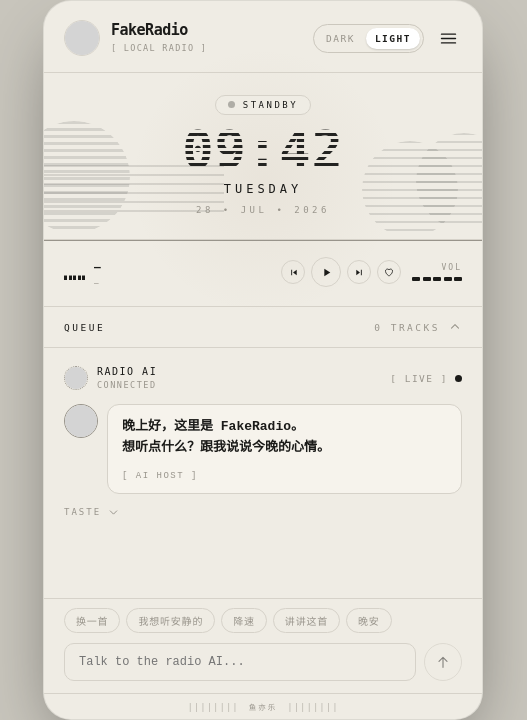
EditorialRadio phone-frame runtime wiring › sends chat via SSE and renders the DJ reply as a chat bubble
The width and height of the screenshot is (527, 720).
In the field with placeholder "Talk to the radio AI...": [240, 662] box [64,643,416,681], type "现在这首歌是什么？"
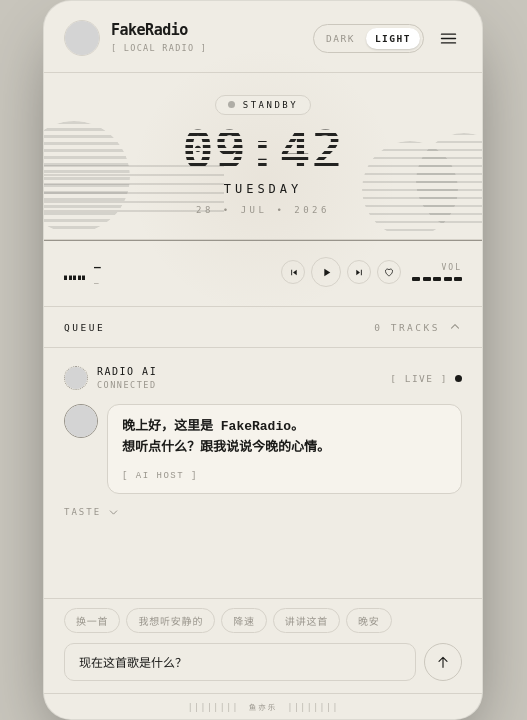
Submit the form with placeholder "Talk to the radio AI...", box [44,633,482,693]
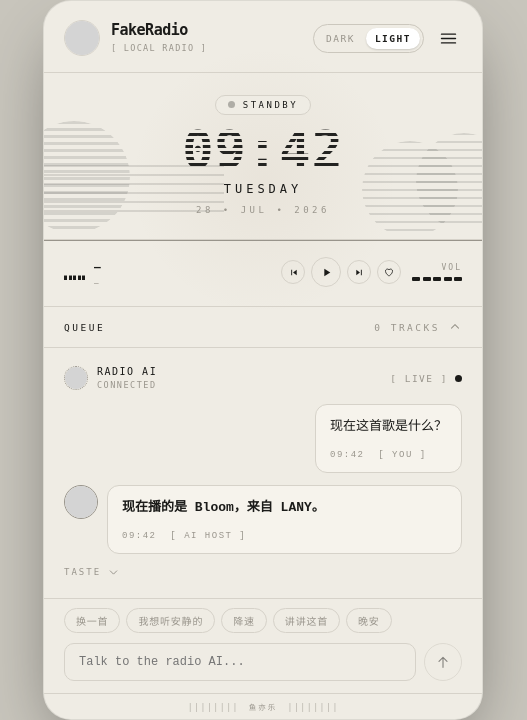
expect the text "现在播的是 Bloom，来自 LANY。" is shown: met, box [122,500,325,515]
expect the text "现在这首歌是什么？" is shown: met, box [330,417,447,438]
